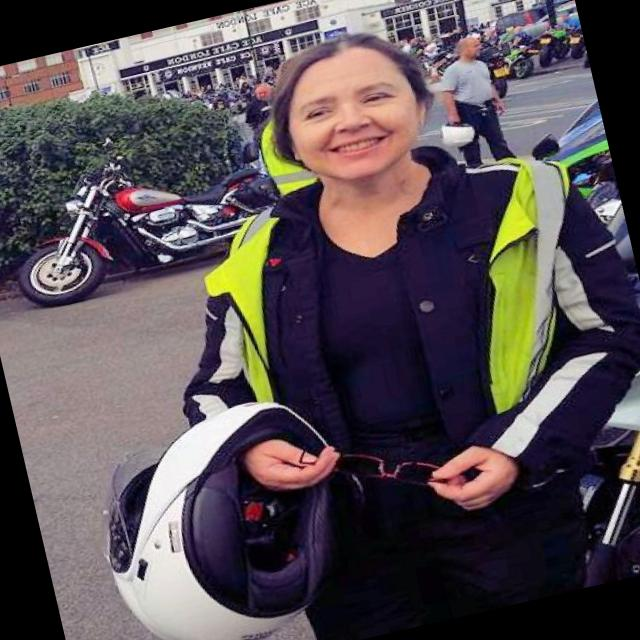bareface: (240, 5, 456, 194)
